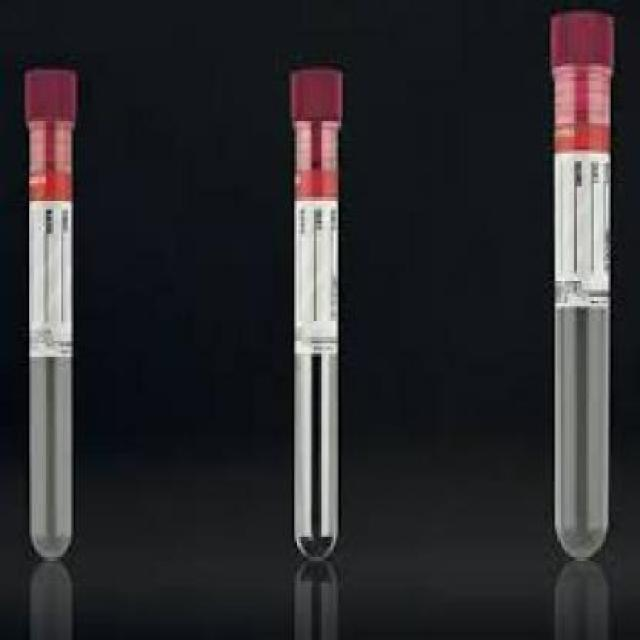Experimental-tube: (549, 7, 614, 559), (289, 65, 346, 560), (24, 65, 79, 560)
